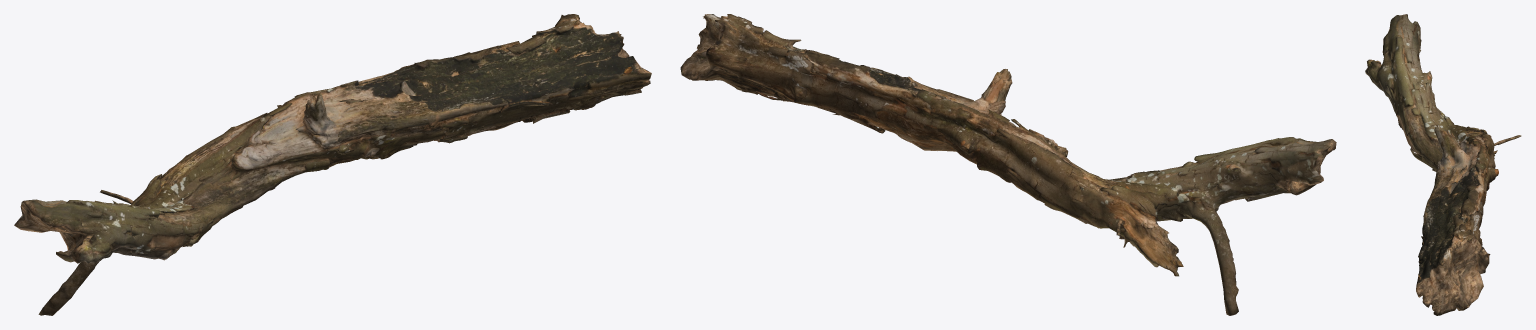
Rendered from dead_tree_trunk_02.glb.
3 renders of one model, left to right at view 1: azimuth 30°, elevation 25°; view 2: azimuth 150°, elevation 25°; view 3: azimuth 270°, elevation 25°, orthographic. The views are drawn at different scales.
Parts seen in each view (by area): view 1: dead_tree_trunk_02_lod0; view 2: dead_tree_trunk_02_lod0; view 3: dead_tree_trunk_02_lod0.
Part boxes in pixels (x1,y1,x2,y2): dead_tree_trunk_02_lod0: (14, 14, 651, 315); dead_tree_trunk_02_lod0: (680, 14, 1336, 315); dead_tree_trunk_02_lod0: (1365, 14, 1521, 315).
Size of what is drawn, in the model's own units: 4.06 by 1.05 by 1.06.
Materials: 1 (1 with a texture image).
